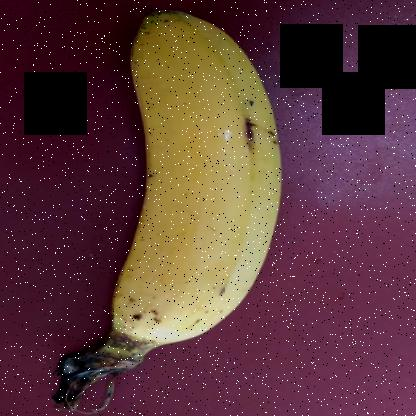freshripe: (89, 12, 303, 356)
